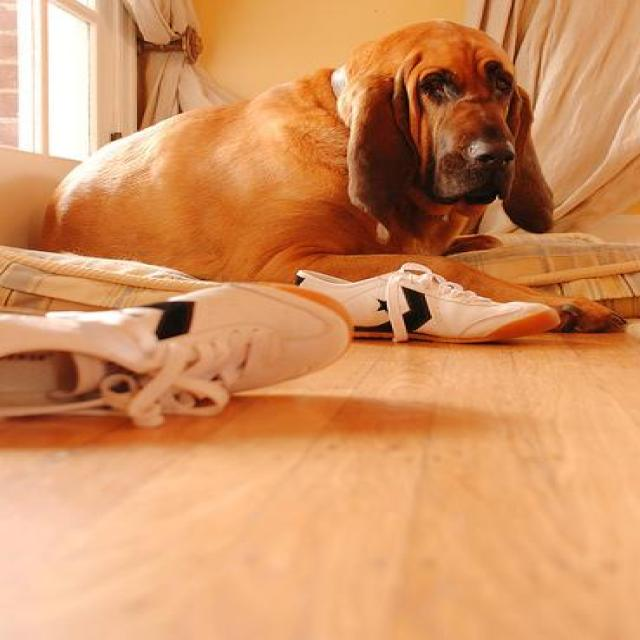bloodhound: (28, 16, 628, 332)
